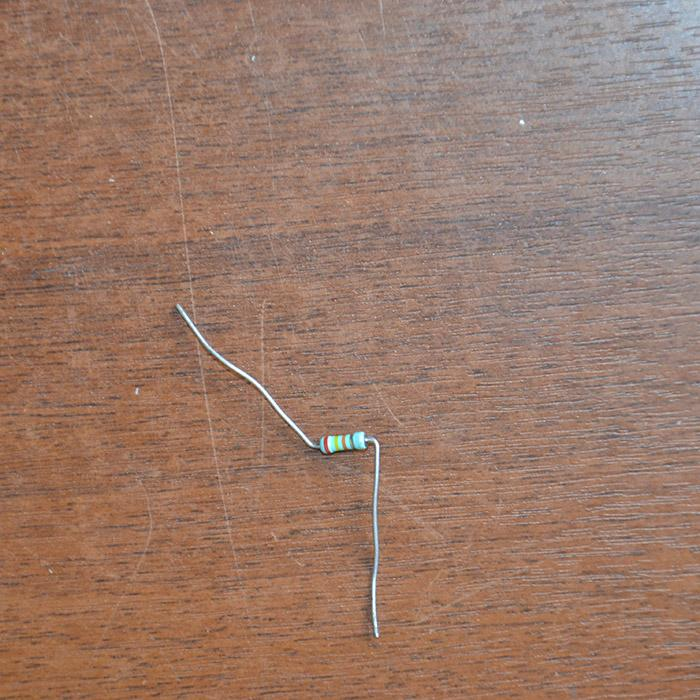resistor: (319, 431, 366, 454)
